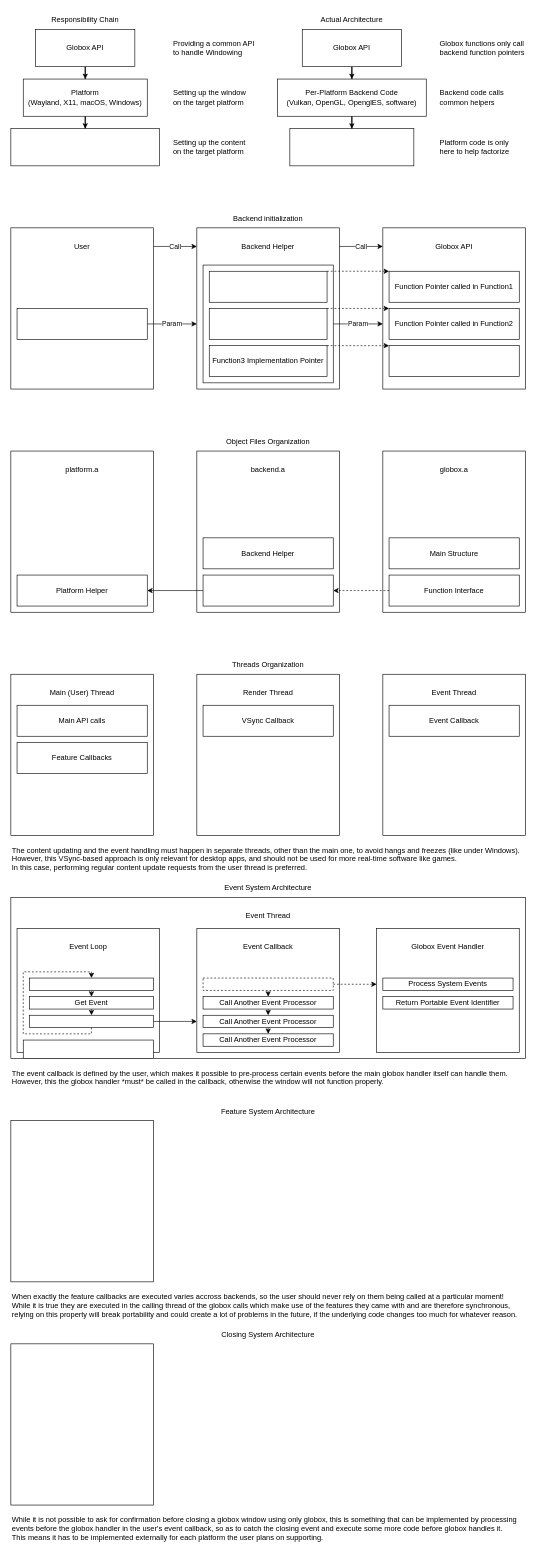
Some shapes in this 536 by 1552 pixel diagram are drawn without their labels. The shapes that lost their labels are listed below. From the top down, each one's box as (x1, y1, x2, y2) in pixels, then its label:
(10, 128, 160, 166): Platform's Backend (Vulkan, OpenGL, OpenglES, software)
(289, 128, 414, 166): Common Platform Code (Wayland, X11, macOS, Windows)
(209, 271, 327, 302): Function1 Implementation Pointer
(16, 308, 147, 339): Globox Context
(209, 308, 327, 339): Function2 Implementation Pointer
(388, 345, 519, 377): Function Pointer called in Function3
(202, 574, 333, 606): Function Implementation
(29, 977, 153, 990): If the Window is not Closing
(202, 977, 333, 990): Execute the Globox Event Handler
(29, 1015, 153, 1028): Call Event Callback
(23, 1039, 153, 1059): End Thread
